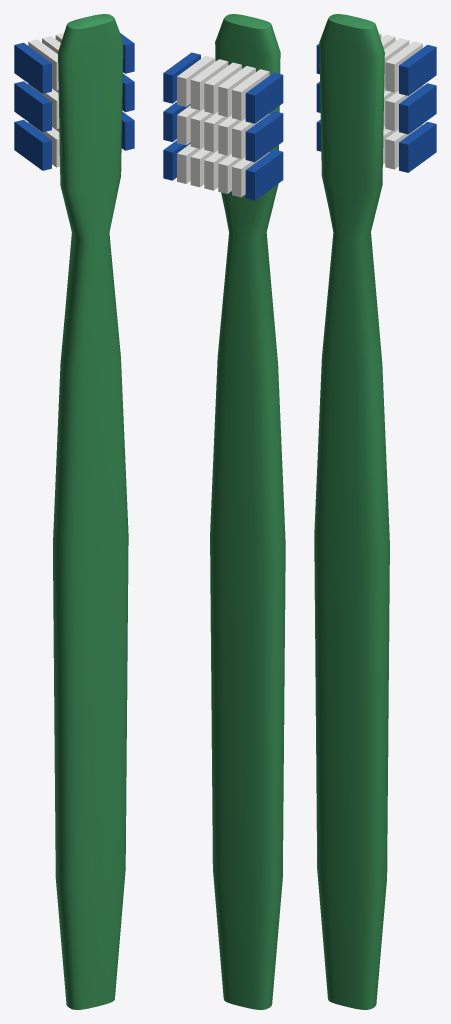
Rendered from escova_dental.dae.
The picture shows the model from 3 angles, left to right: view 1: azimuth 30°, elevation 25°; view 2: azimuth 150°, elevation 25°; view 3: azimuth 330°, elevation 25°; orthographic projection.
Parts seen in each view (by area): view 1: Escova dental (×3); view 2: Escova dental (×3); view 3: Escova dental (×3).
Boxes of the visible parts, x1,y1,x2,y2 form: Escova dental (×3): [14, 14, 134, 1009]; Escova dental (×3): [163, 14, 285, 1009]; Escova dental (×3): [314, 14, 436, 1009].
Bounding box in the file's own units: 18.7 × 15.8 × 192.
